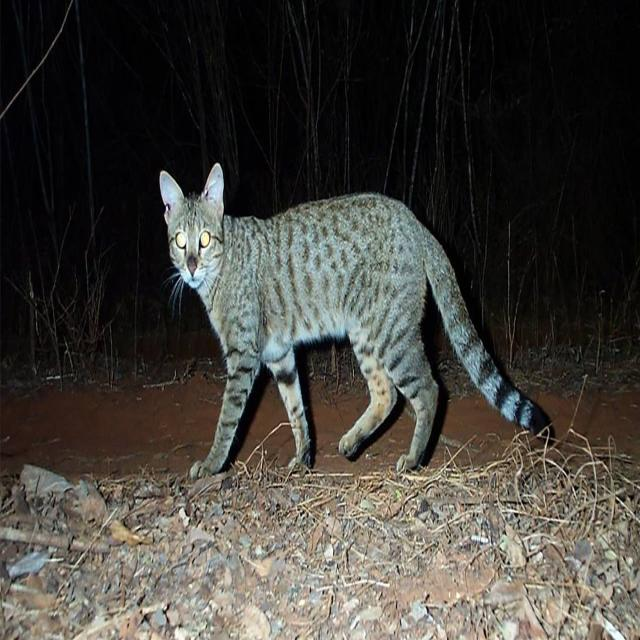cat: (137, 156, 480, 458)
